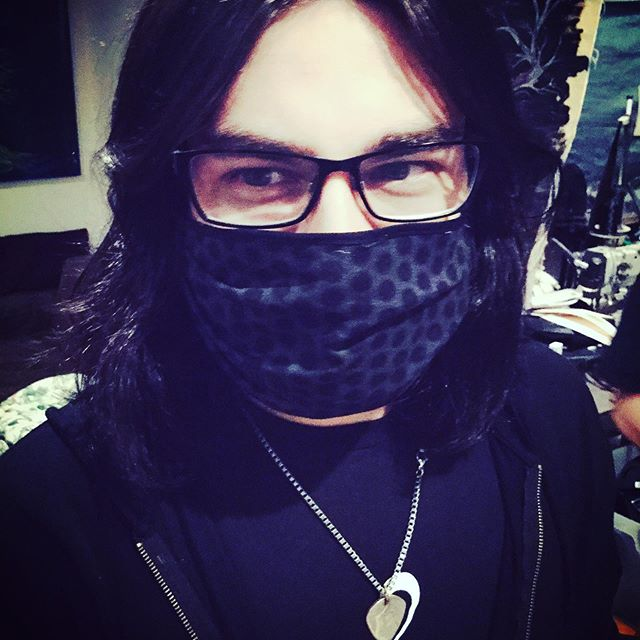homemade: (170, 217, 482, 408)
